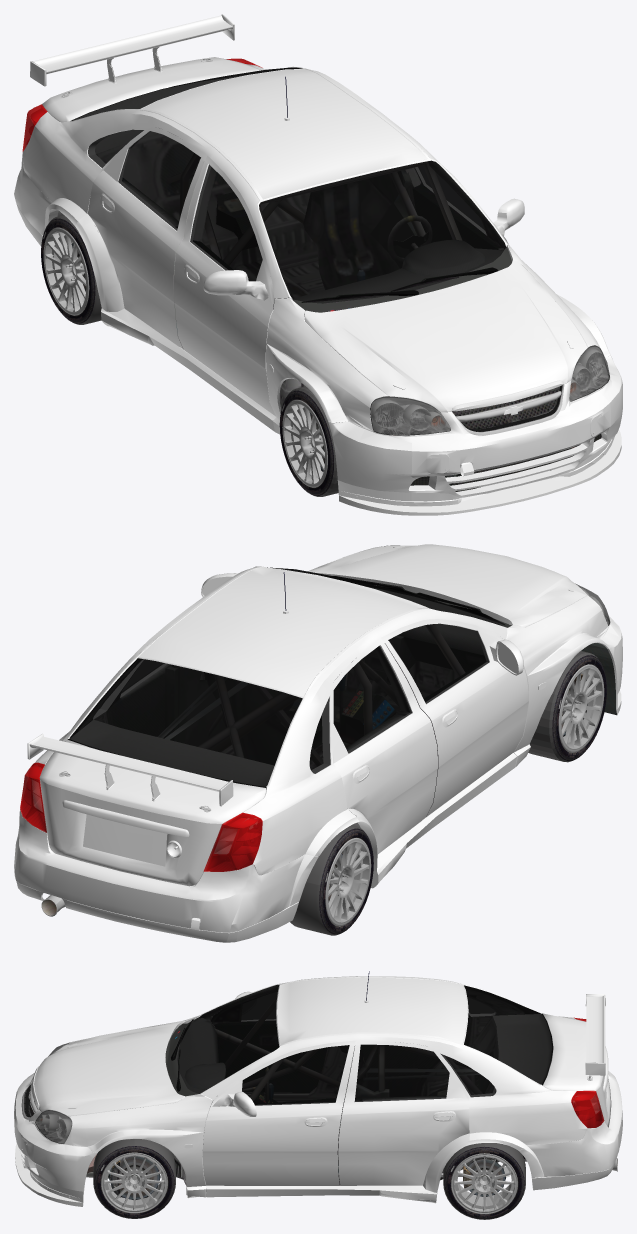
File: lacetti.glb
3 renders of one model, top to bottom at view 1: azimuth 30°, elevation 25°; view 2: azimuth 150°, elevation 25°; view 3: azimuth 270°, elevation 25°, orthographic. The views are drawn at different scales.
Parts seen in each view (by area): view 1: obj116_Material6, obj141_Material 585, obj134_Material6, obj136_Material4, obj109_Material6, obj90_Material6, obj100_Material6, obj104_Material6, obj89_Material4, obj169_Material4, obj165_Material6, obj85_Material6 (+22 smaller); view 2: obj116_Material6, obj137_Material4, obj141_Material 585, obj165_Material6, obj138_Material6, obj134_Material6, obj90_Material6, obj100_Material6, obj89_Material4, obj140_Material 593, obj169_Material4, obj135_Material6 (+17 smaller); view 3: obj116_Material6, obj94_Material6, obj134_Material6, obj141_Material 585, obj136_Material4, obj102_Material6, obj93_Material4, obj137_Material4, obj117_Material 585, obj173_Material4, obj91_Material 585, obj165_Material6 (+21 smaller).
Part boxes in pixels (box(x1,y1,x2,y2)): obj116_Material6: box(22, 64, 507, 431); obj141_Material 585: box(96, 134, 503, 302); obj134_Material6: box(304, 260, 587, 412); obj136_Material4: box(259, 160, 506, 303); obj109_Material6: box(377, 380, 610, 515); obj90_Material6: box(174, 156, 275, 416); obj100_Material6: box(266, 298, 388, 434); obj104_Material6: box(328, 421, 426, 515); obj89_Material4: box(88, 129, 200, 230); obj169_Material4: box(190, 164, 262, 281); obj165_Material6: box(42, 57, 261, 122); obj85_Material6: box(30, 14, 234, 86); obj116_Material6: box(35, 566, 517, 888); obj137_Material4: box(69, 658, 302, 786); obj141_Material 585: box(158, 588, 499, 769); obj165_Material6: box(39, 739, 266, 886); obj138_Material6: box(14, 808, 250, 942); obj134_Material6: box(308, 544, 587, 627); obj90_Material6: box(381, 619, 528, 816); obj100_Material6: box(506, 595, 610, 767); obj89_Material4: box(309, 646, 411, 773); obj140_Material 593: box(67, 720, 273, 788); obj169_Material4: box(388, 623, 489, 703); obj135_Material6: box(226, 854, 318, 942); obj116_Material6: box(200, 976, 587, 1203); obj94_Material6: box(202, 1040, 355, 1185); obj134_Material6: box(31, 1021, 185, 1116); obj141_Material 585: box(178, 998, 498, 1103); obj136_Material4: box(177, 985, 279, 1093); obj102_Material6: box(64, 1093, 212, 1198); obj93_Material4: box(354, 1044, 496, 1101); obj137_Material4: box(464, 985, 552, 1084); obj117_Material 585: box(200, 985, 540, 1181); obj173_Material4: box(242, 1045, 349, 1105); obj91_Material 585: box(211, 998, 326, 1092); obj165_Material6: box(543, 1013, 611, 1127).
Size of the model in its own units: 2.02 by 1.62 by 4.48.
17 materials, 9 textured.
